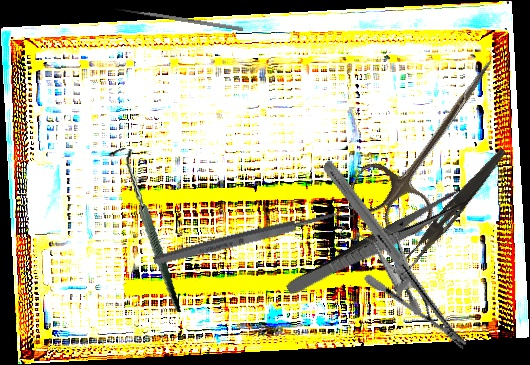Dressing Forceps: (284, 187, 467, 302), (399, 143, 508, 276)
Hook Surgical: (85, 145, 206, 313)
Iris Scissors: (341, 34, 523, 246)
Needle Holder: (277, 158, 513, 352)
Pusher: (113, 6, 244, 32)
Speculum: (316, 205, 450, 319)
Surgical Spoon: (152, 204, 356, 268)
